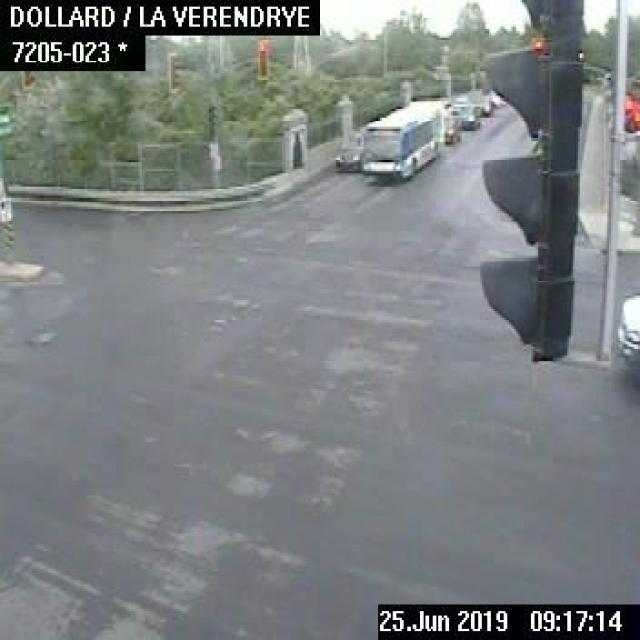bus: (359, 94, 445, 180)
vehicle: (612, 294, 638, 364), (334, 135, 359, 172), (458, 104, 479, 131), (443, 118, 459, 144)
